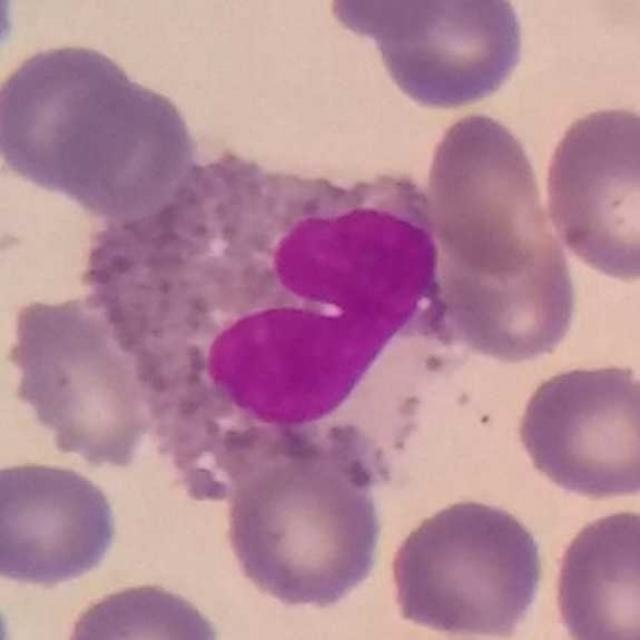Eosinophil: (87, 146, 450, 502)
RBC: (217, 428, 388, 614), (1, 292, 162, 472), (424, 193, 580, 367), (384, 493, 550, 640), (0, 38, 146, 198), (422, 107, 554, 281), (49, 67, 197, 217), (537, 99, 640, 286), (364, 0, 531, 114), (512, 356, 640, 504), (0, 455, 122, 591), (546, 503, 640, 640), (55, 576, 227, 640), (319, 0, 462, 42)
